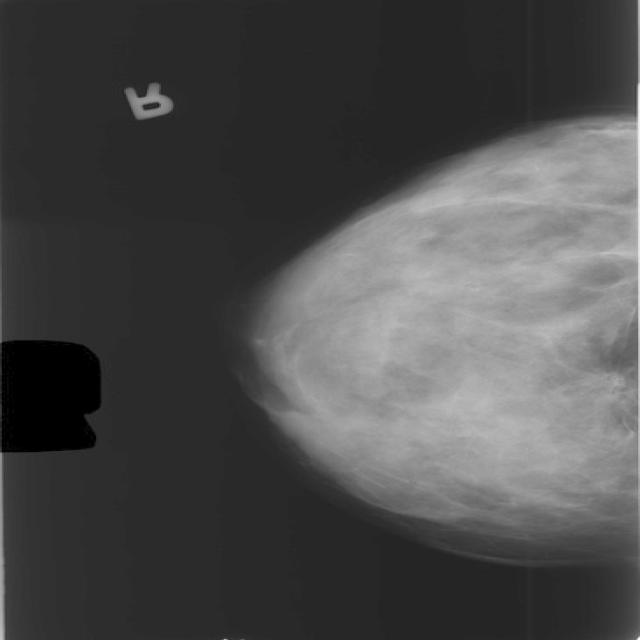tumour: (572, 366, 628, 402)
